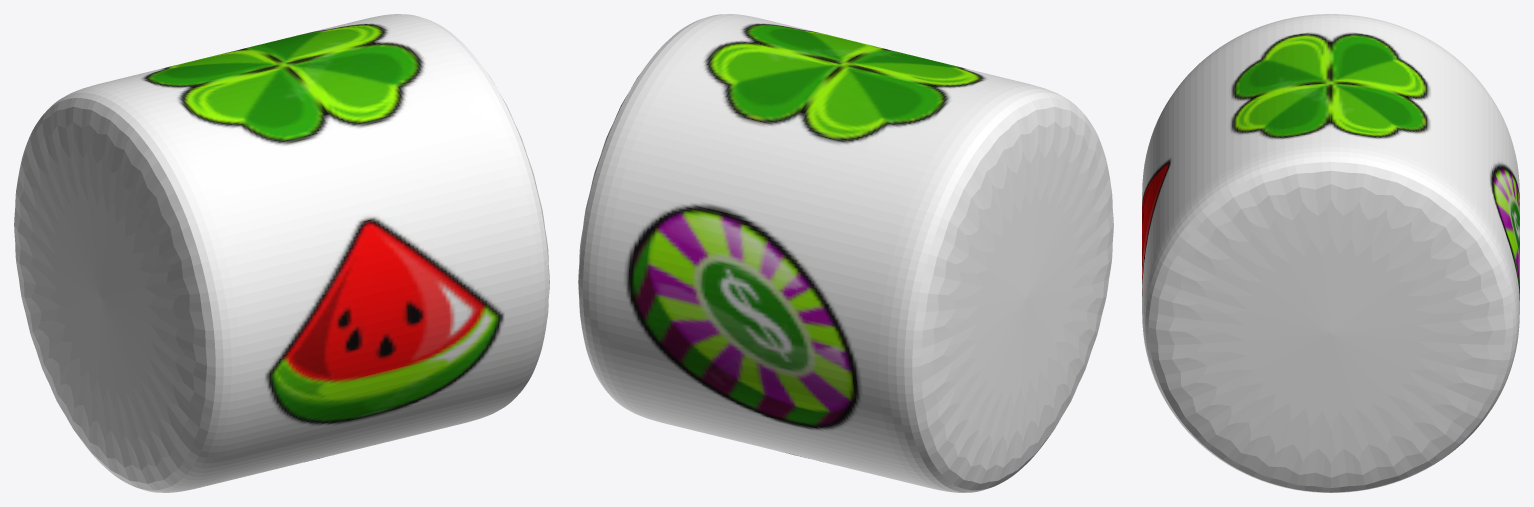
The model's file is SlotGameCyclinder.fbx.
The picture shows the model from 3 angles, left to right: view 1: azimuth 30°, elevation 25°; view 2: azimuth 150°, elevation 25°; view 3: azimuth 270°, elevation 25°; orthographic projection. The views are drawn at different scales.
Parts seen in each view (by area): view 1: Cylinder; view 2: Cylinder; view 3: Cylinder.
Part boxes in pixels (x1,y1,x2,y2): Cylinder: [14, 14, 549, 492]; Cylinder: [578, 14, 1113, 492]; Cylinder: [1142, 14, 1519, 492].
Bounding box in the file's own units: 200 × 199 × 199.
